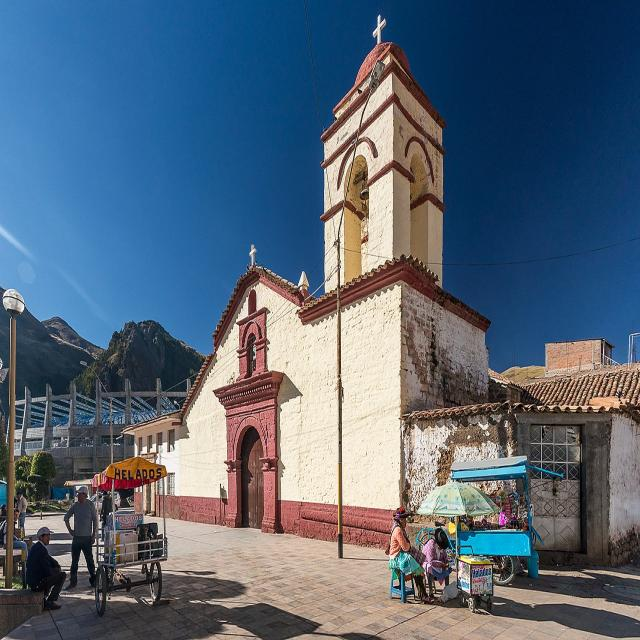6: (303, 8, 463, 554)
CAMPANARIO: (304, 87, 456, 283)
CUPULA: (62, 0, 549, 603)
PORTADA CENTRAL: (336, 33, 436, 103)
SIMETRIA COLONIAL: (211, 380, 298, 547)
